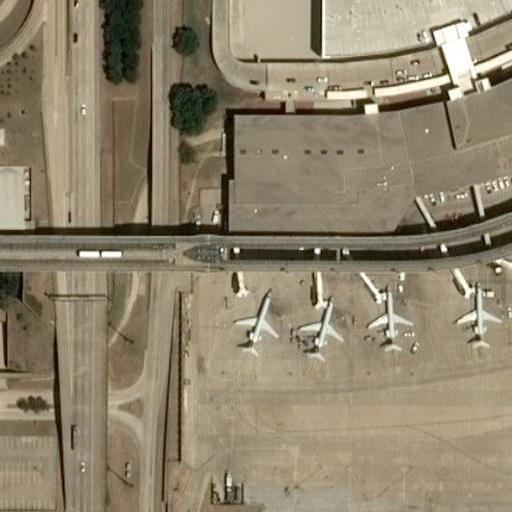Aircraft: (445, 284, 506, 352), (365, 289, 416, 358), (293, 292, 341, 360), (235, 288, 277, 355)
